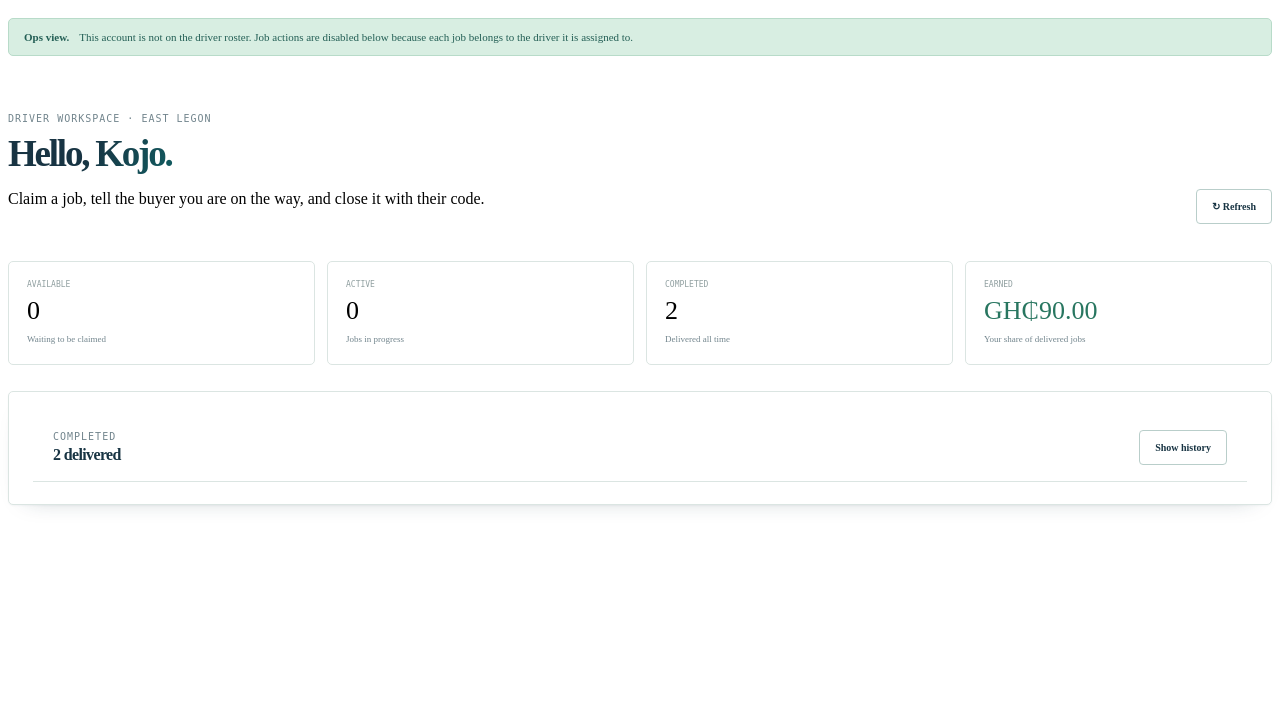
Test: completed history tab › shows toggle to show/hide completed deliveries
The width and height of the screenshot is (1280, 720).
Earlier steps of the test are not shown.
Click the button "Show history" at [1183, 447], box [1139,430,1227,464]
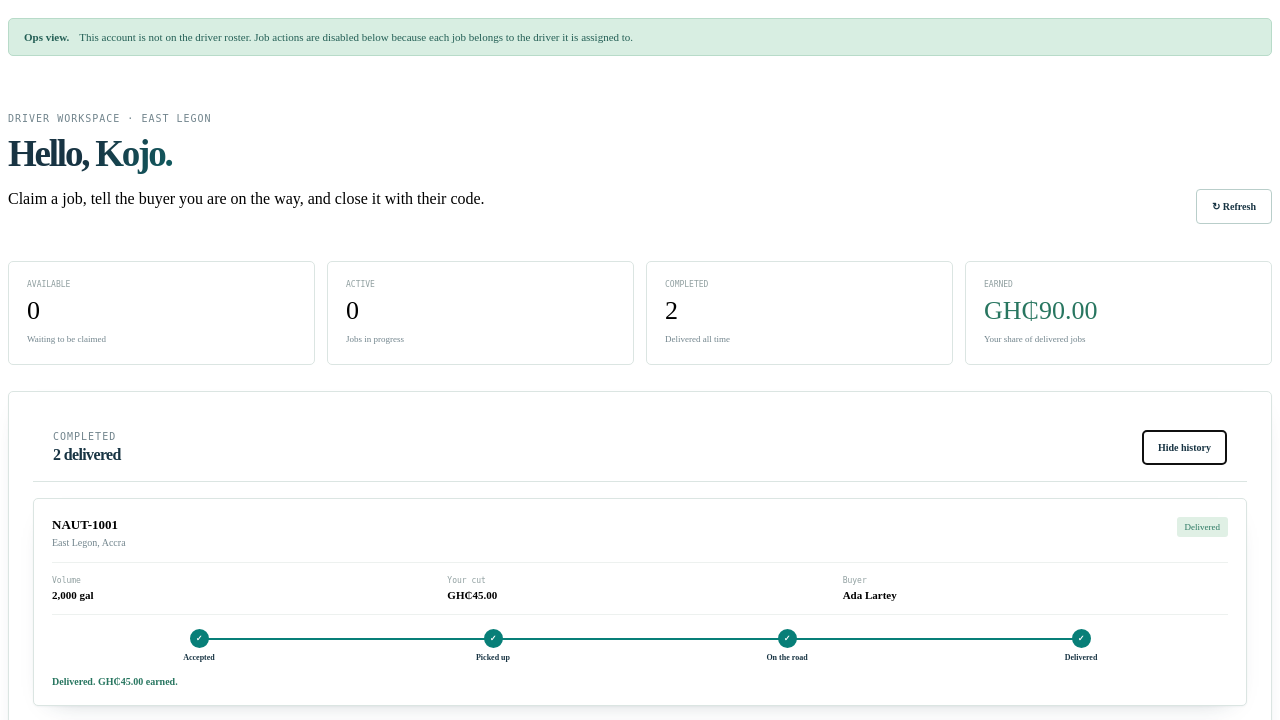
Expected: the element with test id "driver-job-NAUT-1" is shown, [33,498,1247,706]
Click the button "Hide history" at [1184, 447], box [1142,430,1227,464]
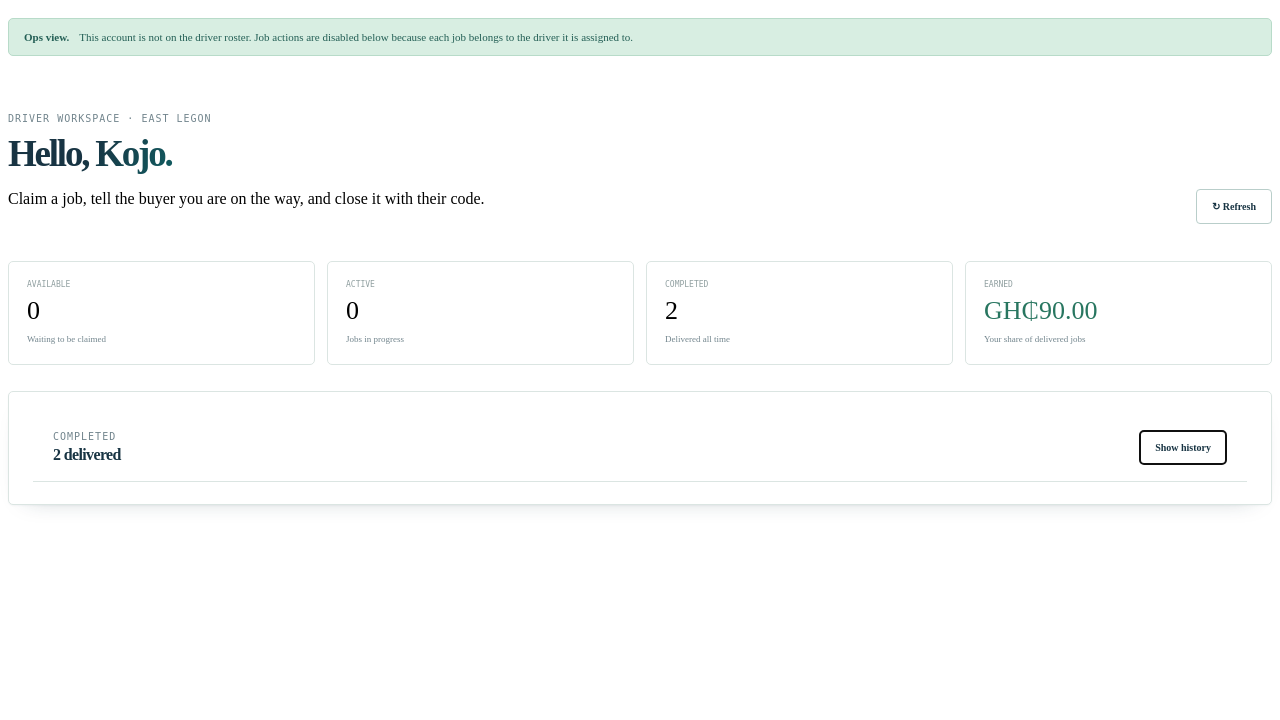
Expected: the element with test id "driver-job-NAUT-1" is gone
